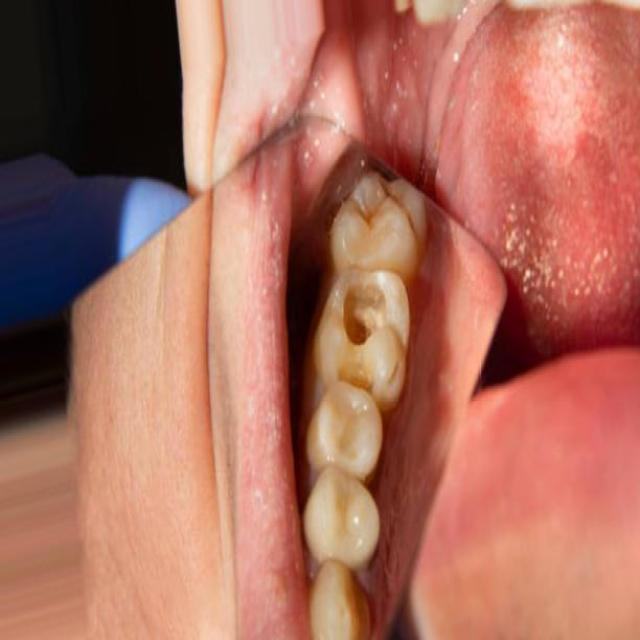caries: (320, 267, 410, 391)
